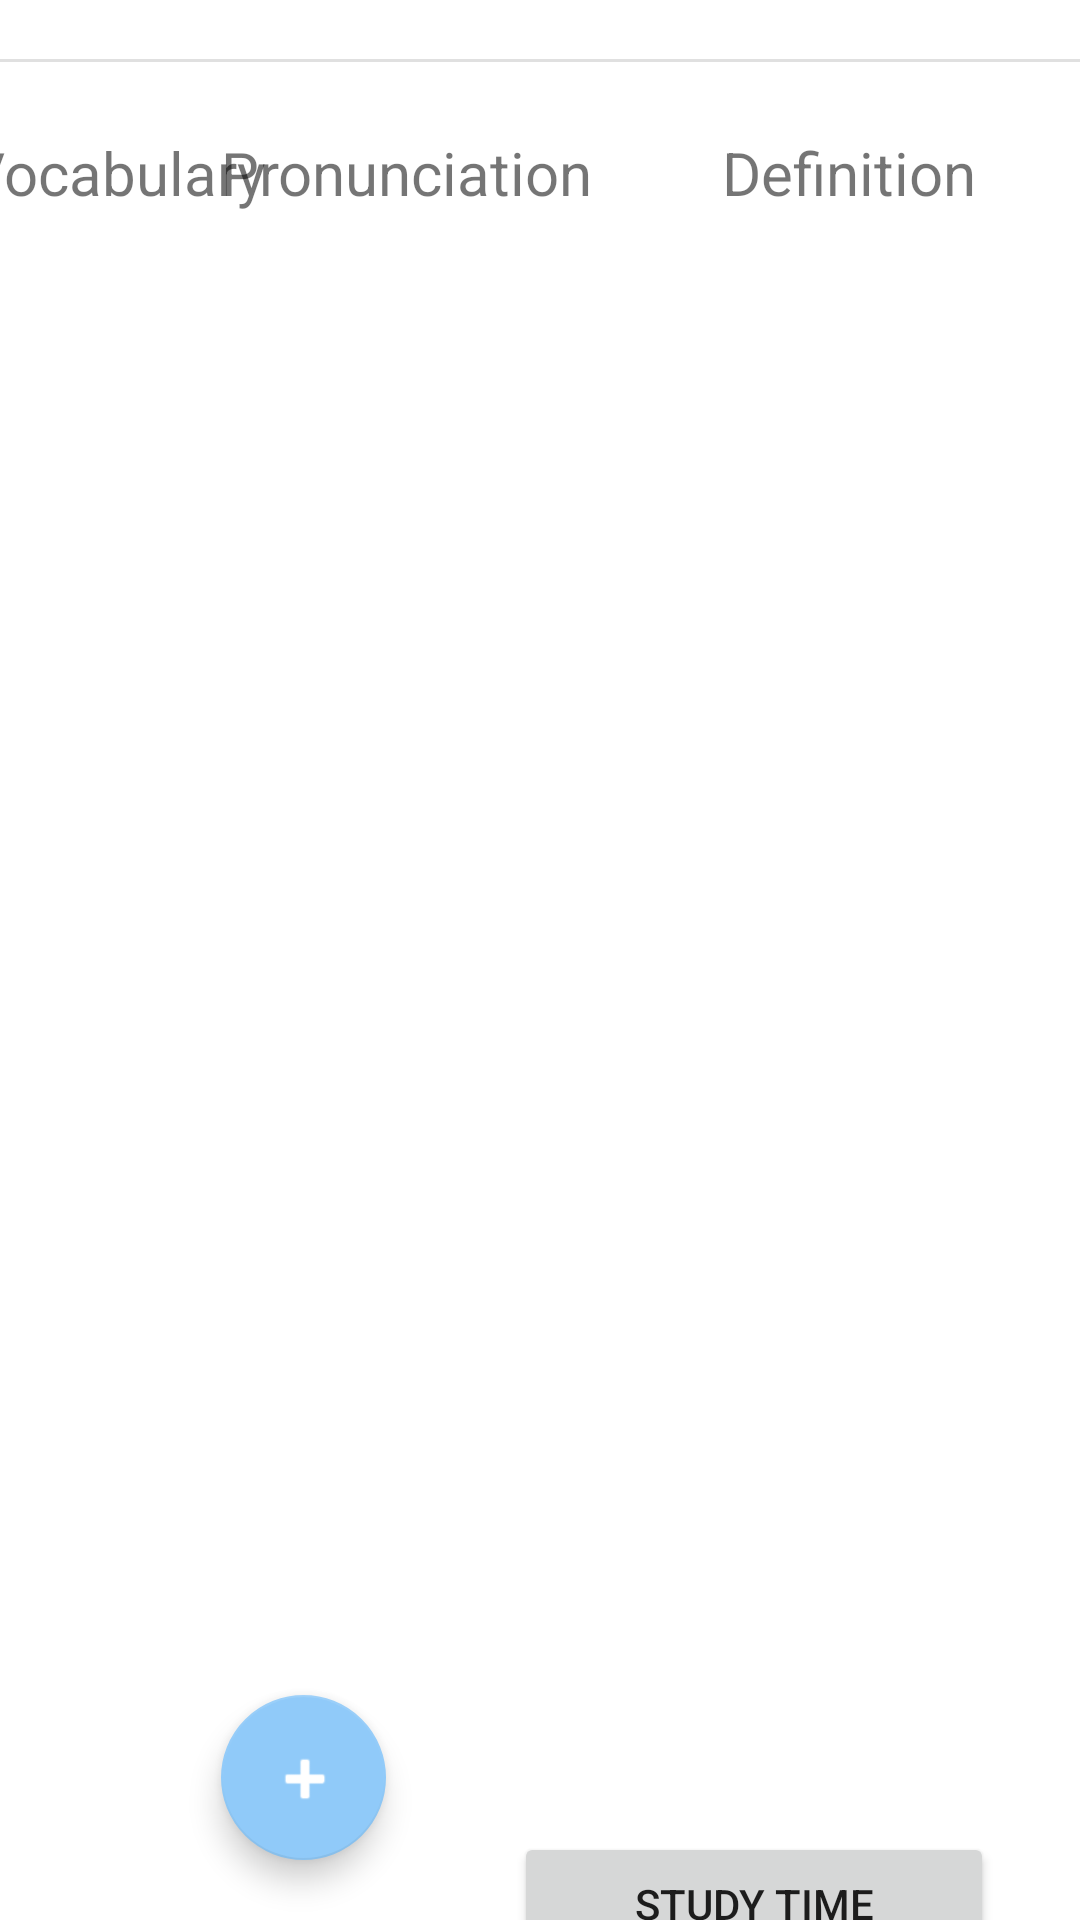

Icon bounding boxes for this 1080x1920 phone screenshot, format bbox=(x1, y1, x2, y2):
Add new Card: bbox=(221, 1695, 386, 1860)
